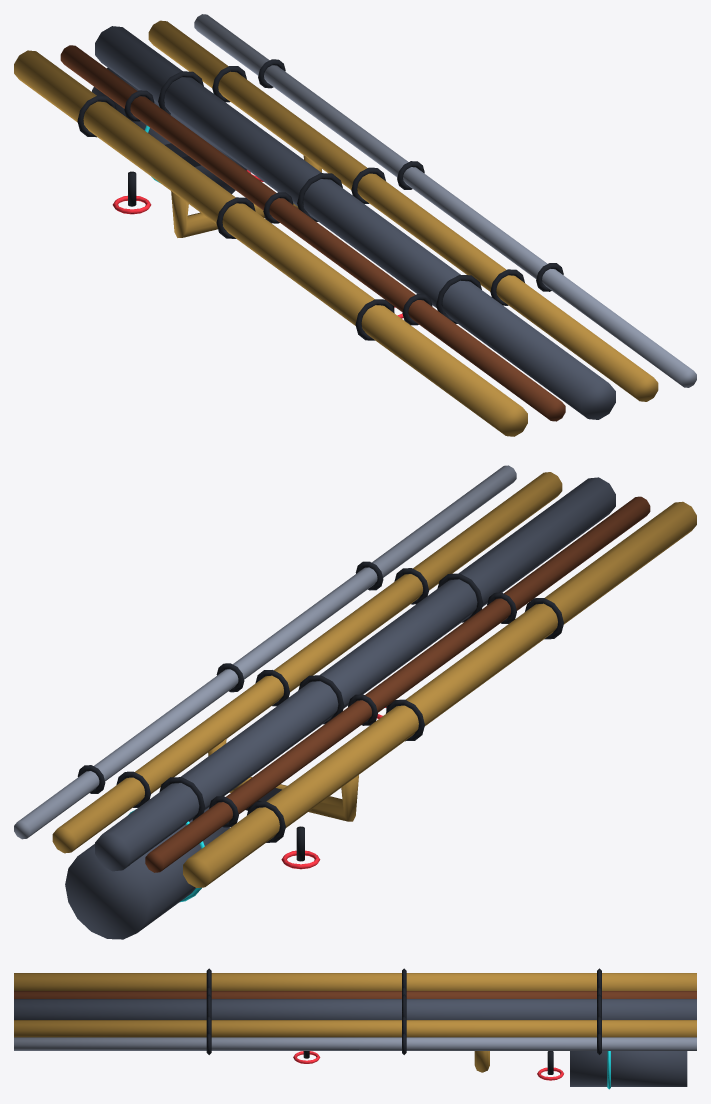
File: shooter-pipes.glb
3 renders of one model, top to bottom at view 1: azimuth 30°, elevation 25°; view 2: azimuth 150°, elevation 25°; view 3: azimuth 270°, elevation 25°, orthographic. The views are drawn at different scales.
Parts seen in each view (by area): view 1: Model Mesh; view 2: Model Mesh; view 3: Model Mesh.
Boxes of the visible parts, left/top/right/bottom form: Model Mesh: left=14, top=14, right=696, bottom=436; Model Mesh: left=14, top=465, right=696, bottom=939; Model Mesh: left=14, top=968, right=696, bottom=1089.
Bounding box in the file's own units: 1.73 × 0.975 × 7.
Materials: 2 (2 with a texture image).
